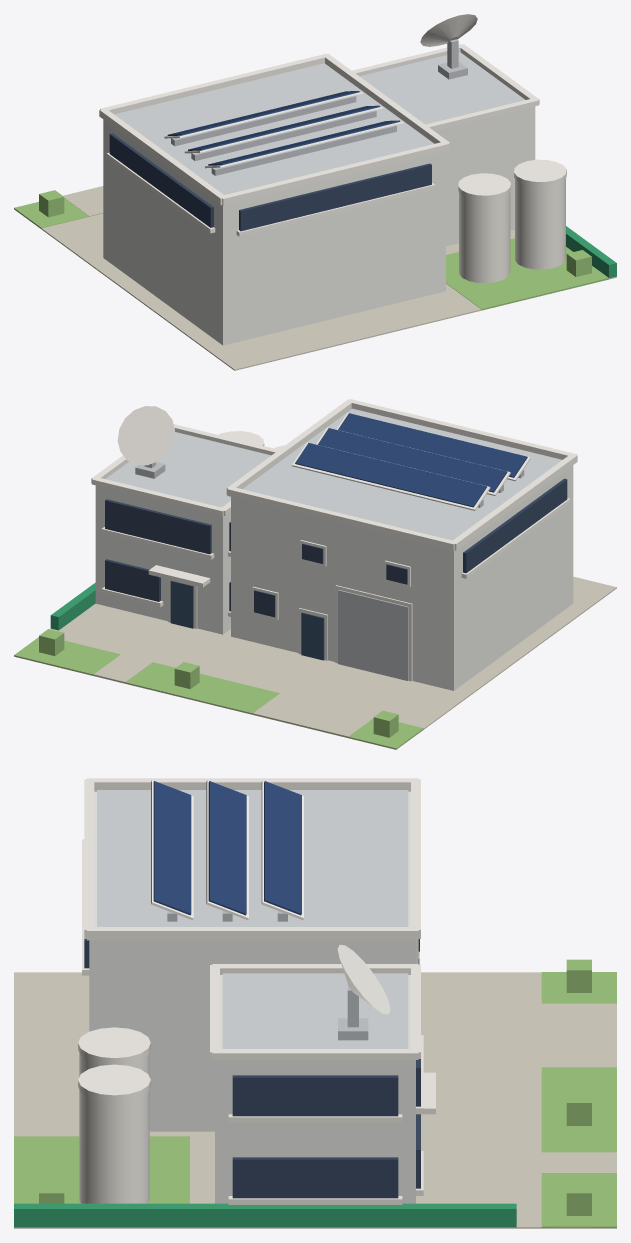
3 views of the same model, one above another, from view 1: azimuth 30°, elevation 25°; view 2: azimuth 150°, elevation 25°; view 3: azimuth 270°, elevation 25° (orthographic). The views are drawn at different scales.
Visible parts, largest first — view 1: production_hall, roof (×2), yard, parapet (×7), storage_tank (×2), window_band (×2), office, lawn (×2), panel_rail (×3), solar_panel (×3), tank_top (×2), sill (×2) (+5 smaller); view 2: production_hall, yard, roof (×2), solar_panel (×3), parapet (×6), office, window_band (×3), lawn, garage_door, driveway, satellite_dish, door (×2) (+8 smaller); view 3: yard, roof (×2), production_hall, lawn (×2), parapet (×8), solar_panel (×3), window_band (×2), office, hedge, storage_tank, driveway, tank_top (×2) (+6 smaller).
Boxes of the visible parts, x1,y1,x2,y2 form: production_hall: [103, 119, 445, 345]; roof (×2): [114, 52, 524, 194]; yard: [14, 208, 616, 370]; parapet (×7): [99, 44, 539, 205]; storage_tank (×2): [459, 179, 565, 283]; window_band (×2): [109, 133, 431, 231]; office: [434, 106, 535, 246]; lawn (×2): [14, 198, 608, 310]; panel_rail (×3): [171, 95, 396, 175]; solar_panel (×3): [167, 91, 399, 165]; tank_top (×2): [458, 159, 566, 200]; sill (×2): [106, 152, 435, 236]; production_hall: [231, 465, 573, 690]; yard: [14, 576, 616, 749]; roof (×2): [105, 408, 561, 540]; solar_panel (×3): [295, 413, 527, 507]; parapet (×6): [92, 399, 577, 550]; office: [95, 485, 230, 634]; window_band (×3): [105, 478, 567, 601]; lawn: [14, 637, 423, 749]; garage_door: [338, 590, 408, 680]; driveway: [253, 693, 374, 737]; satellite_dish: [117, 406, 174, 465]; door (×2): [170, 580, 324, 660]; yard: [14, 972, 616, 1228]; roof (×2): [97, 790, 408, 1048]; production_hall: [89, 791, 415, 1131]; lawn (×2): [14, 972, 616, 1228]; parapet (×8): [84, 778, 420, 1059]; solar_panel (×3): [153, 781, 301, 915]; window_band (×2): [232, 1075, 398, 1198]; office: [215, 975, 415, 1203]; hedge: [14, 1203, 516, 1227]; storage_tank: [79, 1090, 149, 1203]; driveway: [541, 1003, 616, 1067]; tank_top (×2): [78, 1027, 150, 1102].
Bounding box in the file's own units: 24 × 11.11 × 24.
